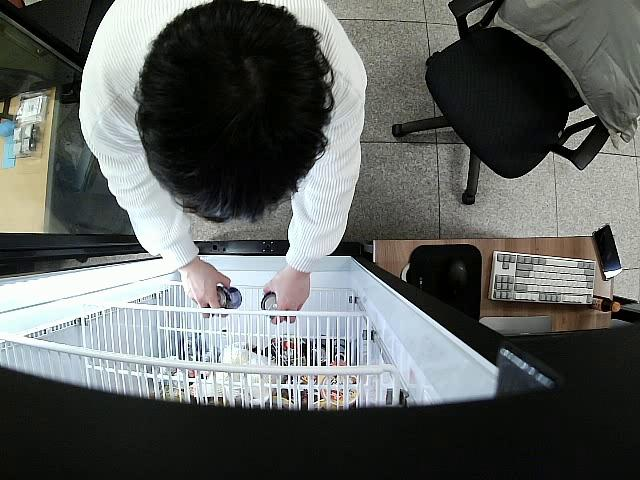00_hand: (261, 267, 311, 325), (181, 260, 231, 315)
14_welchsGrape: (209, 285, 242, 318), (259, 292, 278, 319)
